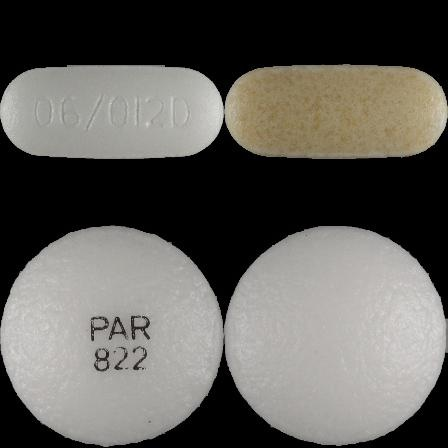54868-4258: (0, 0, 224, 224)
